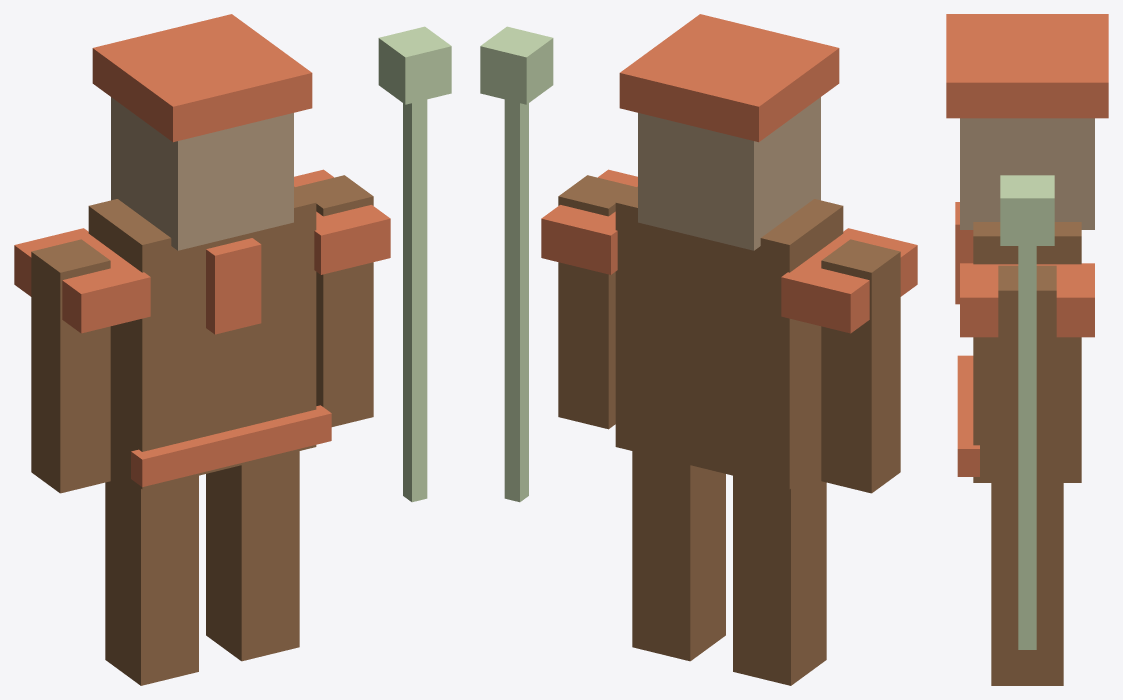
The model's file is 13_luma_nullborne_oracle_under_quarantine.glb.
The picture shows the model from 3 angles, left to right: view 1: azimuth 30°, elevation 25°; view 2: azimuth 150°, elevation 25°; view 3: azimuth 270°, elevation 25°; orthographic projection.
Parts seen in each view (by area): view 1: Luma Nullborne, Oracle under Quarantine; view 2: Luma Nullborne, Oracle under Quarantine; view 3: Luma Nullborne, Oracle under Quarantine.
Boxes of the visible parts, box(x1,y1,x2,y2) form: Luma Nullborne, Oracle under Quarantine: box(14, 14, 451, 685); Luma Nullborne, Oracle under Quarantine: box(480, 14, 917, 685); Luma Nullborne, Oracle under Quarantine: box(946, 14, 1108, 685).
Bounding box in the file's own units: 1.01 × 1.45 × 0.3573.
